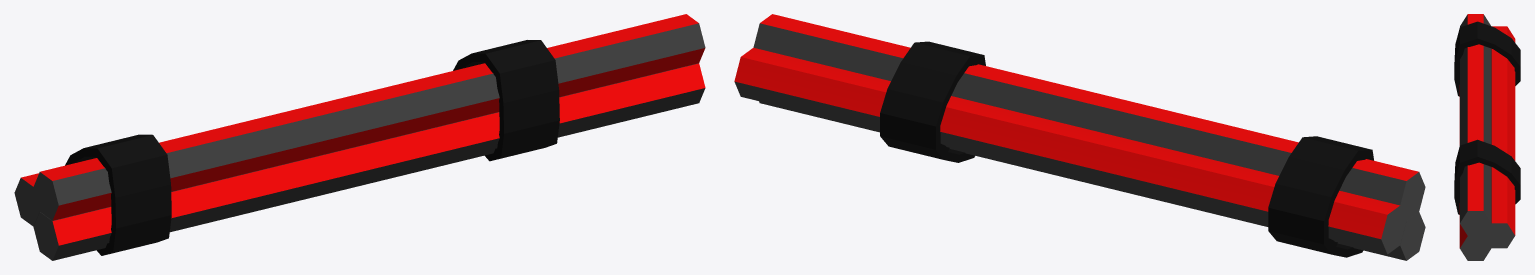
The model's file is kabel_segment.fbx.
The picture shows the model from 3 angles, left to right: view 1: azimuth 30°, elevation 25°; view 2: azimuth 150°, elevation 25°; view 3: azimuth 270°, elevation 25°; orthographic projection. The views are drawn at different scales.
Parts seen in each view (by area): view 1: Plane.001; view 2: Plane.001; view 3: Plane.001.
Part boxes in pixels (x1,y1,x2,y2): Plane.001: (14, 14, 705, 260); Plane.001: (734, 14, 1425, 260); Plane.001: (1454, 14, 1520, 260).
Size of the model in its own units: 14.11 by 15.4 by 99.58.
